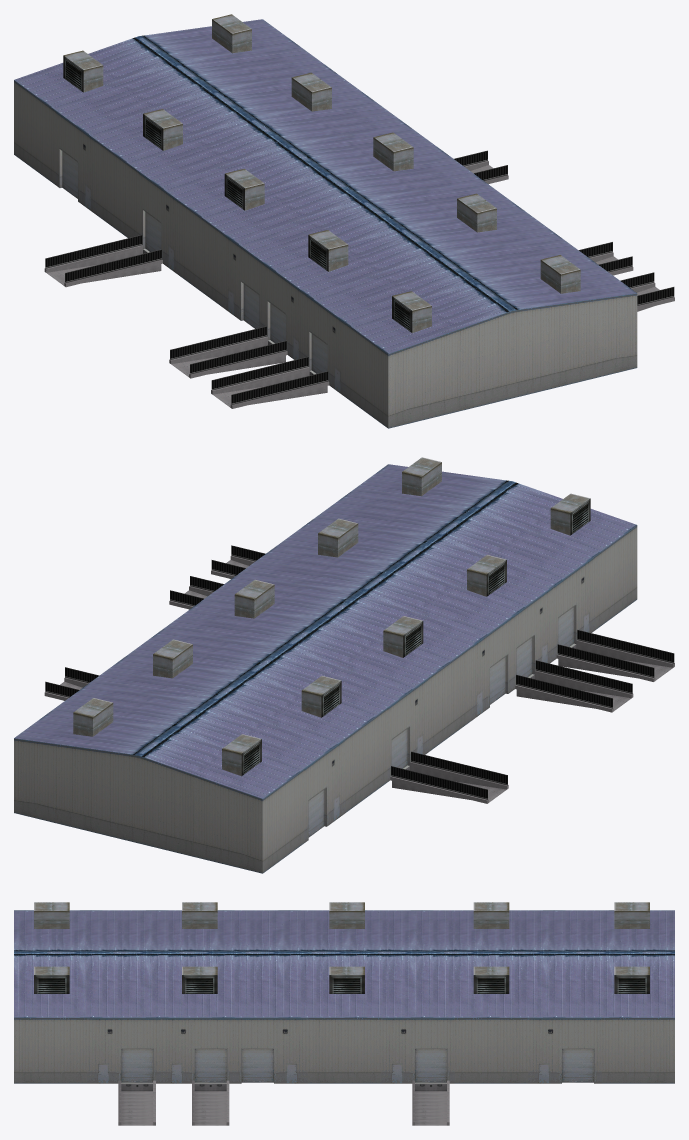
File: vegasnorthwrehse1.obj
The picture shows the model from 3 angles, top to bottom: view 1: azimuth 30°, elevation 25°; view 2: azimuth 150°, elevation 25°; view 3: azimuth 270°, elevation 25°; orthographic projection. The views are drawn at different scales.
Parts seen in each view (by area): view 1: vegasnorthwrehse1; view 2: vegasnorthwrehse1; view 3: vegasnorthwrehse1.
Part boxes in pixels (x1,y1,x2,y2): vegasnorthwrehse1: (14,14,674,428); vegasnorthwrehse1: (14,457,674,873); vegasnorthwrehse1: (14,902,674,1125).
Size of the model in its own units: 57.09 by 13.5 by 83.61.
Materials: 8 (8 with a texture image).
